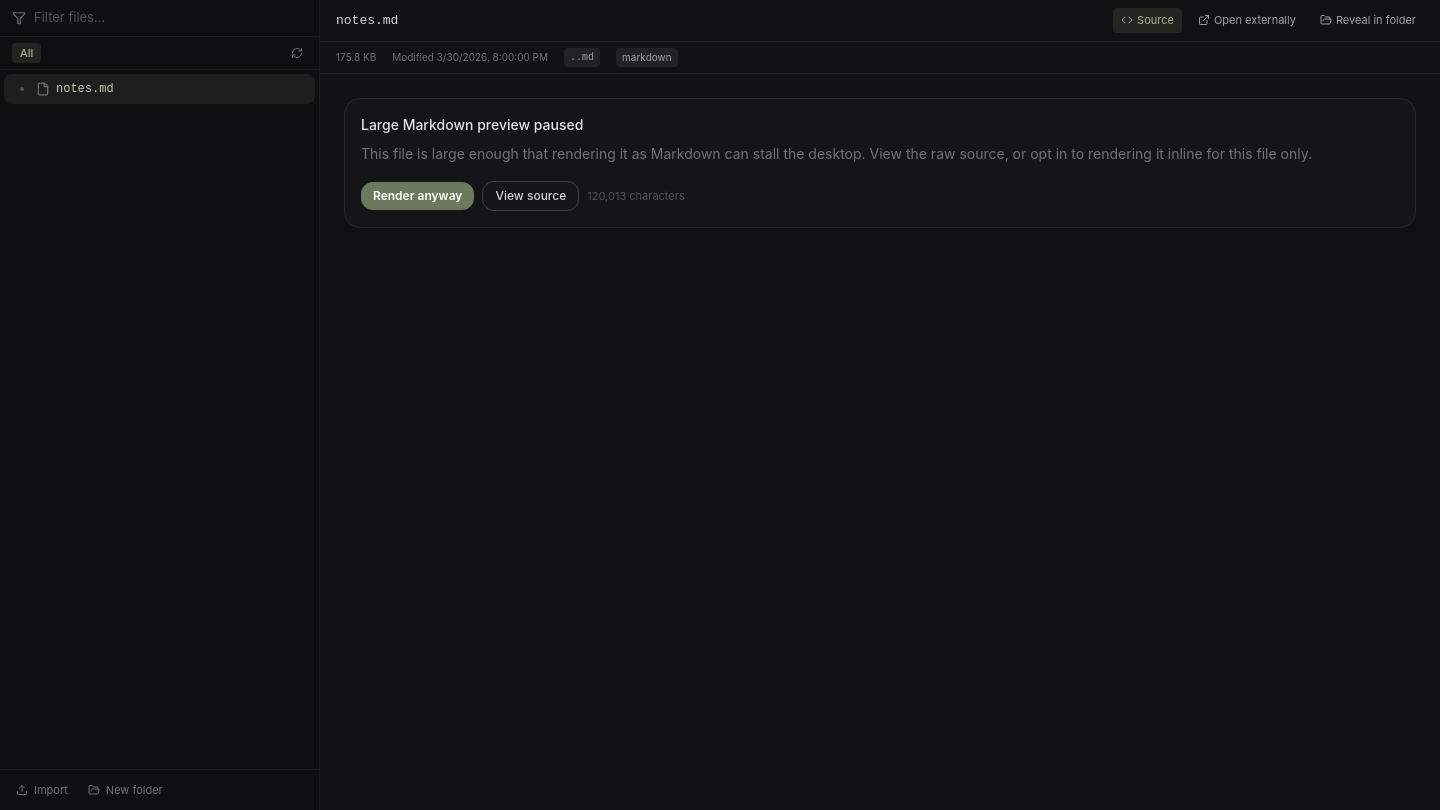
Test: FilesTab › guards large markdown previews until the user opts in
expect the text "Large Markdown preview paused" is shown: met, box [361,116,583,132]
Step 1. Click the button "Render anyway" → (418, 196), box [361,182,474,210]
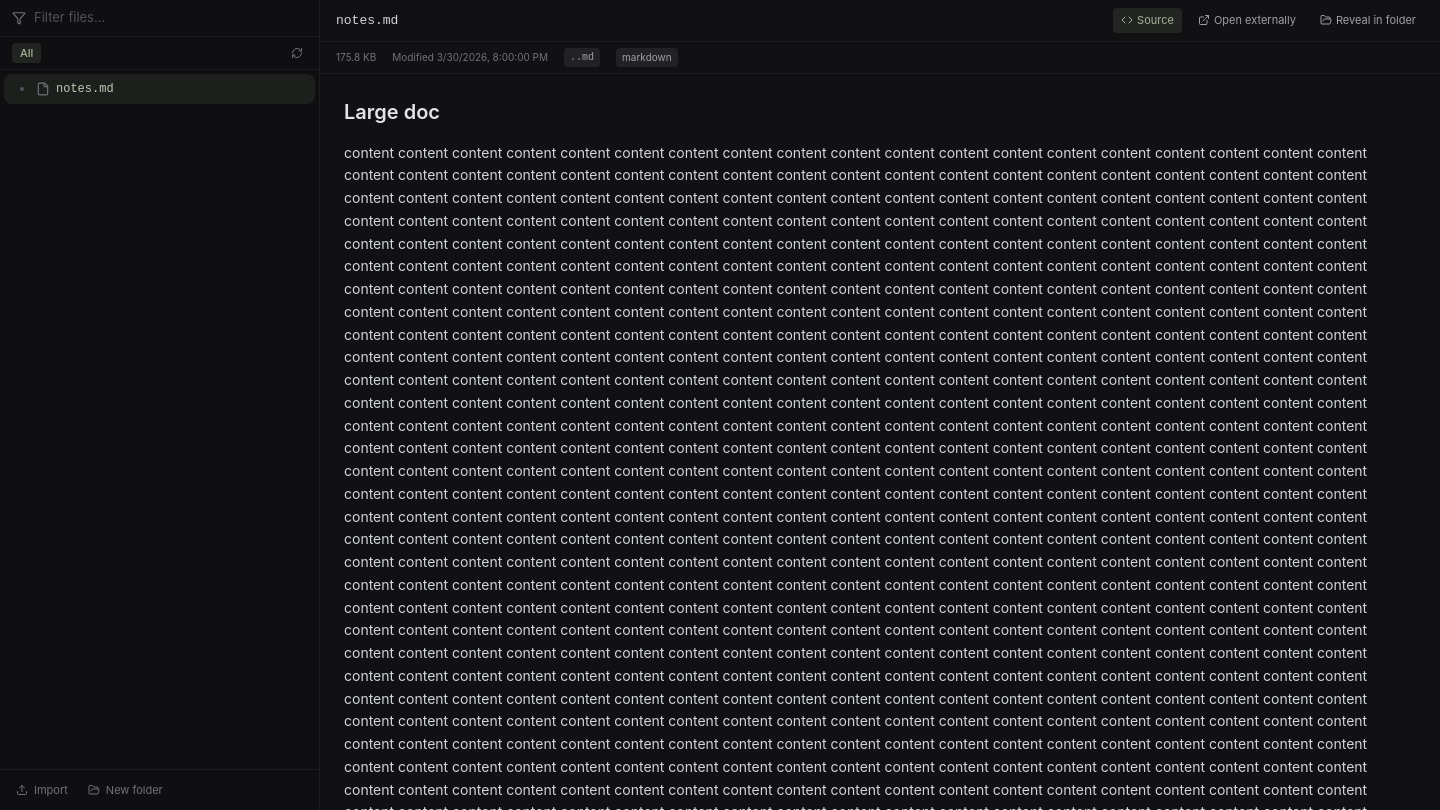
expect the heading "Large doc" is shown: met, box [344,100,440,124]
